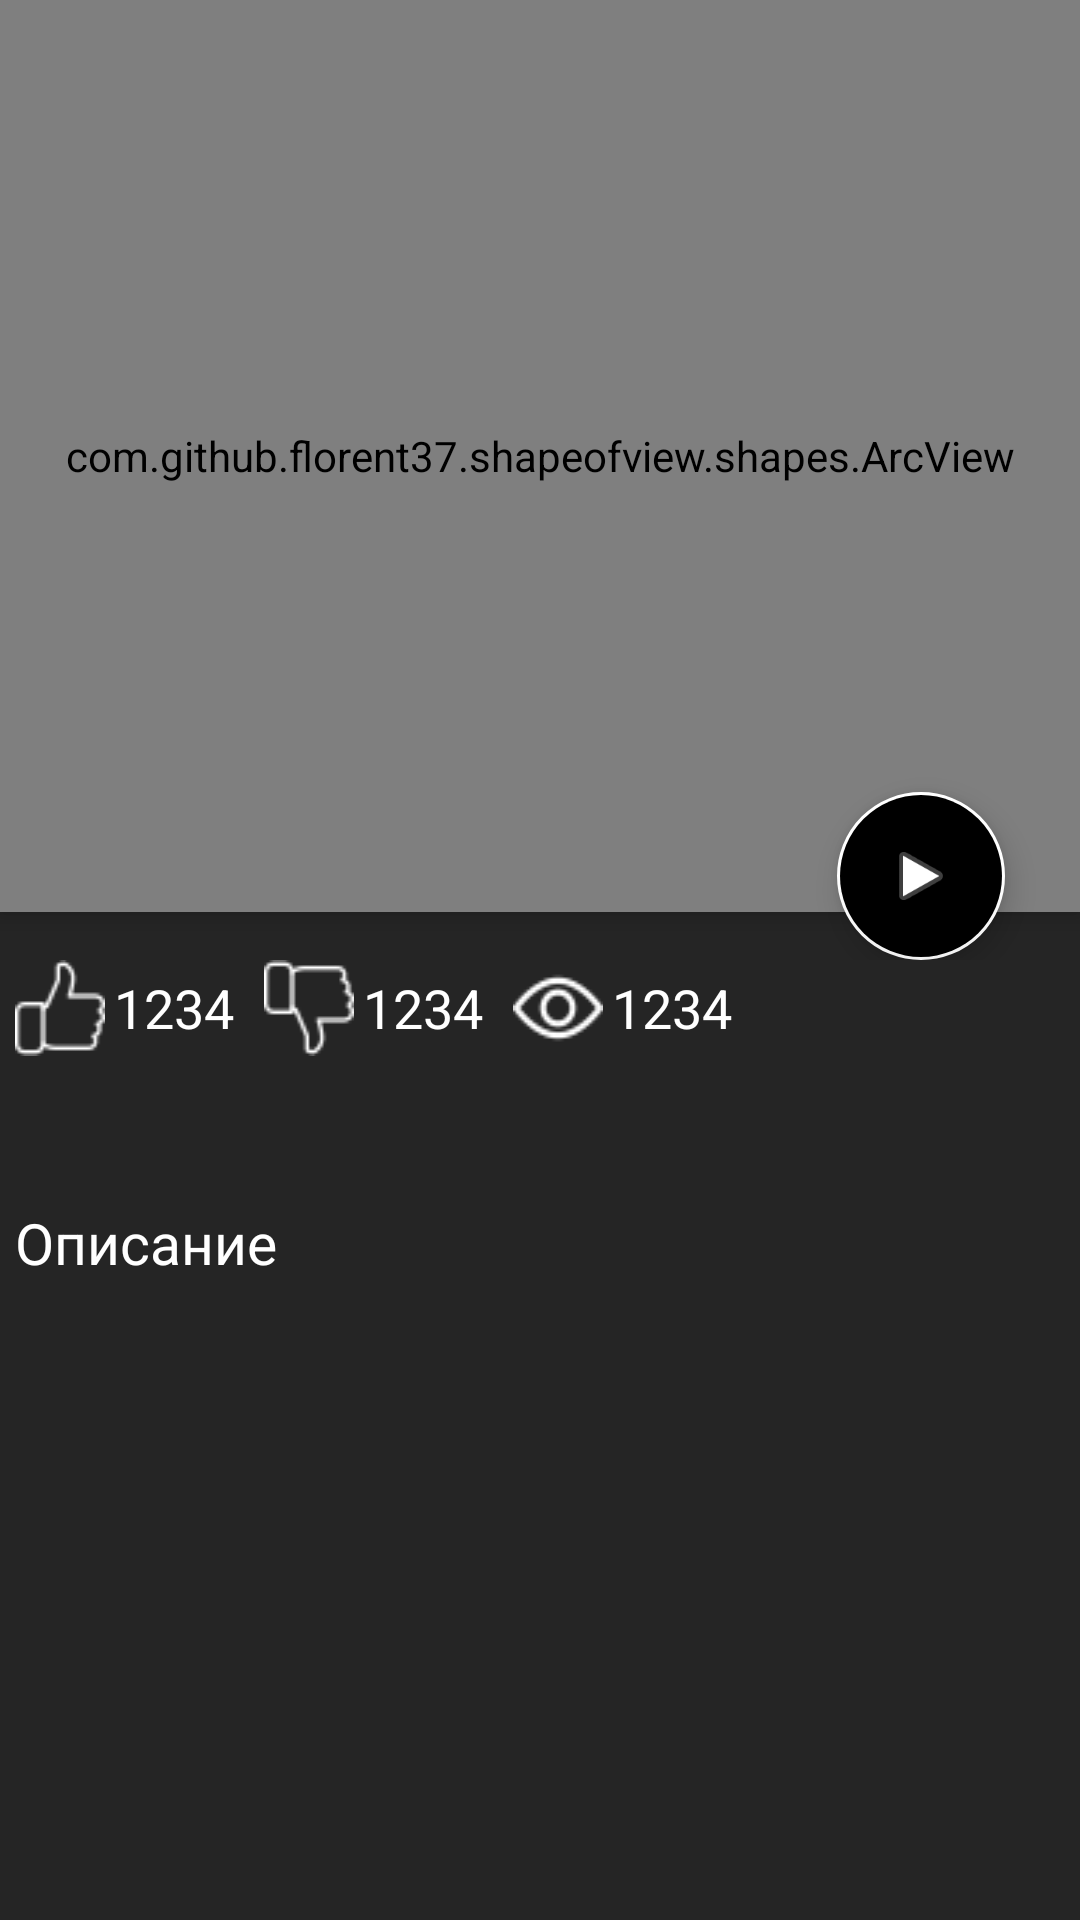

Point at icon controls on the screen. Image size 1080x1920, points as (x=x, y=y).
dislike: (x=309, y=1008)
eye: (x=558, y=1007)
like: (x=60, y=1008)
play: (x=921, y=876)
